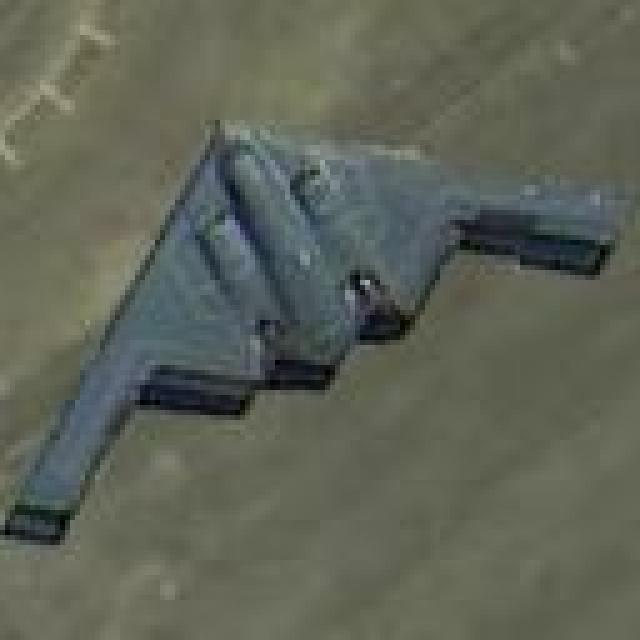B-2_TopDown: (0, 110, 635, 545)
